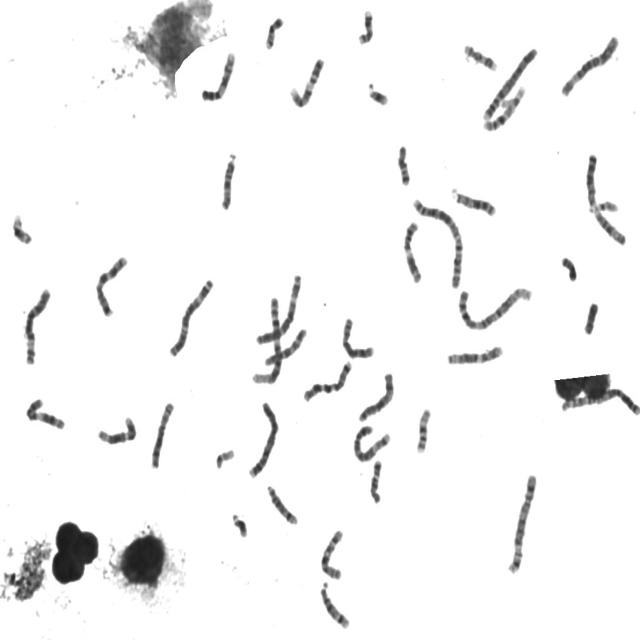A1: (455, 281, 535, 332), (250, 293, 285, 387)
A2: (410, 194, 466, 290), (555, 376, 640, 429)
A3: (166, 273, 216, 359), (252, 270, 304, 346)
B4: (480, 42, 539, 128), (246, 398, 280, 480)
B5: (505, 469, 539, 576), (351, 422, 392, 464)
C10: (262, 324, 308, 367), (318, 526, 346, 582)
C11: (23, 394, 67, 432), (401, 216, 424, 285)
C12: (444, 341, 504, 366), (95, 412, 138, 446)
C6: (558, 30, 622, 98), (22, 284, 52, 366)
C7: (92, 250, 130, 319), (300, 358, 354, 403)
C8: (148, 397, 176, 471), (340, 313, 376, 360)
C9: (287, 53, 326, 109), (199, 48, 237, 104)
D13: (449, 184, 498, 218), (584, 148, 600, 214)
D14: (318, 579, 352, 631), (264, 481, 300, 527)
D15: (591, 205, 628, 247), (218, 150, 238, 212)
E16: (481, 106, 516, 135), (414, 404, 434, 454)
E17: (461, 40, 500, 72), (356, 5, 376, 46)
E18: (395, 140, 412, 188), (368, 456, 384, 505)
F19: (10, 210, 38, 248), (498, 82, 526, 111)
F20: (263, 12, 286, 50), (559, 255, 583, 288)
G21: (364, 79, 390, 108), (228, 509, 250, 539)
G22: (213, 444, 236, 470), (594, 196, 620, 214)
X: (356, 368, 396, 424)
Y: (582, 298, 600, 336)
